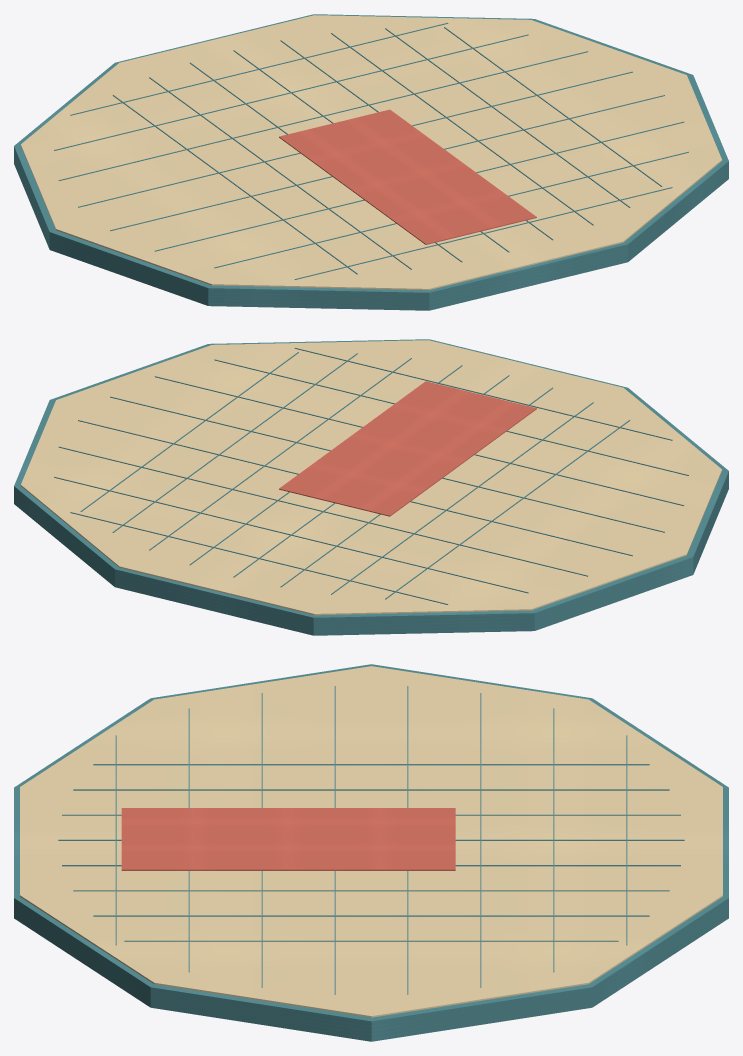
Rendered from atlas100-s072-a07.lod1.glb.
3 views of the same model, one above another, from view 1: azimuth 30°, elevation 25°; view 2: azimuth 150°, elevation 25°; view 3: azimuth 270°, elevation 25° (orthographic). The views are drawn at different scales.
Visible parts, largest first — view 1: atlas100-s072-a07:part-001, atlas100-s072-a07:part-000, atlas100-s072-a07:part-021, atlas100-s072-a07:part-015, atlas100-s072-a07:part-014, atlas100-s072-a07:part-016, atlas100-s072-a07:part-017, atlas100-s072-a07:part-018, atlas100-s072-a07:part-020, atlas100-s072-a07:part-013, atlas100-s072-a07:part-019, atlas100-s072-a07:part-005 (+3 smaller); view 2: atlas100-s072-a07:part-001, atlas100-s072-a07:part-000, atlas100-s072-a07:part-021, atlas100-s072-a07:part-015, atlas100-s072-a07:part-014, atlas100-s072-a07:part-016, atlas100-s072-a07:part-017, atlas100-s072-a07:part-018, atlas100-s072-a07:part-013, atlas100-s072-a07:part-020, atlas100-s072-a07:part-019, atlas100-s072-a07:part-005 (+3 smaller); view 3: atlas100-s072-a07:part-001, atlas100-s072-a07:part-000, atlas100-s072-a07:part-021, atlas100-s072-a07:part-005, atlas100-s072-a07:part-009, atlas100-s072-a07:part-010, atlas100-s072-a07:part-004, atlas100-s072-a07:part-011.
Part boxes in pixels (x1,y1,x2,y2): atlas100-s072-a07:part-001: (20, 15, 722, 290); atlas100-s072-a07:part-000: (14, 14, 728, 310); atlas100-s072-a07:part-021: (279, 109, 536, 244); atlas100-s072-a07:part-015: (58, 51, 588, 180); atlas100-s072-a07:part-014: (54, 34, 528, 150); atlas100-s072-a07:part-016: (78, 71, 632, 207); atlas100-s072-a07:part-017: (110, 95, 664, 231); atlas100-s072-a07:part-018: (155, 121, 684, 251); atlas100-s072-a07:part-020: (294, 187, 672, 279); atlas100-s072-a07:part-013: (70, 22, 448, 115); atlas100-s072-a07:part-019: (214, 151, 688, 268); atlas100-s072-a07:part-005: (149, 77, 411, 269); atlas100-s072-a07:part-001: (20, 340, 722, 615); atlas100-s072-a07:part-000: (14, 339, 728, 635); atlas100-s072-a07:part-021: (279, 381, 536, 516); atlas100-s072-a07:part-015: (58, 446, 587, 576); atlas100-s072-a07:part-014: (54, 476, 528, 593); atlas100-s072-a07:part-016: (78, 420, 632, 556); atlas100-s072-a07:part-017: (110, 396, 664, 532); atlas100-s072-a07:part-018: (154, 376, 684, 505); atlas100-s072-a07:part-013: (70, 512, 448, 604); atlas100-s072-a07:part-020: (294, 347, 672, 440); atlas100-s072-a07:part-019: (214, 359, 688, 475); atlas100-s072-a07:part-005: (331, 402, 593, 594); atlas100-s072-a07:part-001: (20, 666, 722, 1017); atlas100-s072-a07:part-000: (14, 664, 728, 1041); atlas100-s072-a07:part-021: (121, 808, 455, 870); atlas100-s072-a07:part-005: (73, 789, 669, 790); atlas100-s072-a07:part-009: (73, 890, 669, 891); atlas100-s072-a07:part-010: (93, 915, 649, 916); atlas100-s072-a07:part-004: (93, 764, 649, 765); atlas100-s072-a07:part-011: (124, 940, 618, 941).
Bounding box in the file's own units: 12.75 × 0.404 × 10.78.
Materials: 3 (3 with a texture image).
